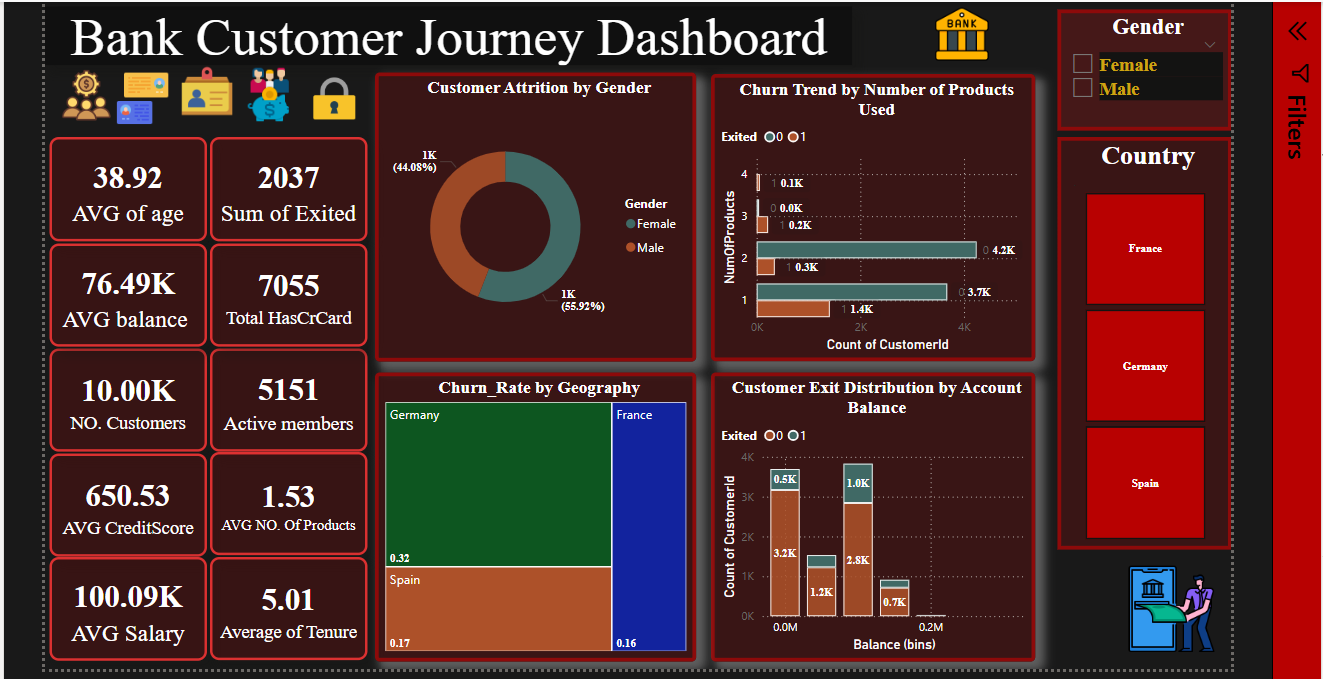

What the dashboard file says about the page in this screenshot:
{"tool":"powerbi","page":{"name":"Basic  Anyalysis","canvas":[1280,720],"ordinal":1},"visuals":[{"type":"textbox","title":"Bank Customer Journey Dashboard","box":[0,4.8,871.7,63.6],"z":0},{"type":"card","fields":{"Values":["Avg(Bank_Churn_Modelling.Age)"]},"box":[4.8,146,170.2,112.9],"z":1000},{"type":"card","fields":{"Values":["CountNonNull(Bank_Churn_Modelling.CustomerId)"]},"box":[4.8,374,170.2,111.3],"z":2000},{"type":"card","fields":{"Values":["Avg(Bank_Churn_Modelling.CreditScore)"]},"box":[5,486.7,170.2,111.3],"z":3000},{"type":"card","fields":{"Values":["Avg(Bank_Churn_Modelling.EstimatedSalary)"]},"box":[4.8,599.7,170,112],"z":4000},{"type":"card","fields":{"Values":["Avg(Bank_Churn_Modelling.Balance)"]},"box":[4.8,261,170.2,111.3],"z":5000},{"type":"card","fields":{"Values":["Sum(Bank_Churn_Modelling.Exited)"]},"box":[178.1,146,170.2,112.9],"z":6000},{"type":"card","fields":{"Values":["Sum(Bank_Churn_Modelling.IsActiveMember)"]},"box":[178.1,374,170.2,111.3],"z":7000},{"type":"card","fields":{"Values":["Avg(Bank_Churn_Modelling.NumOfProducts)"]},"box":[178,486,170.2,111.3],"z":8000},{"type":"card","fields":{"Values":["Avg(Bank_Churn_Modelling.Tenure)"]},"box":[178.1,599.7,170.2,111.3],"z":9000},{"type":"card","fields":{"Values":["Sum(Bank_Churn_Modelling.HasCrCard)"]},"box":[178,261,170.2,111.3],"z":10000},{"type":"slicer","title":"Gender","fields":{"Values":["Bank_Churn_Modelling.Gender"]},"box":[1092.7,8,187.7,130.4],"z":11000},{"type":"slicer","title":"Country ","fields":{"Values":["Bank_Churn_Modelling.Geography"]},"box":[1092.7,146.3,187.7,445.4],"z":12000},{"type":"donutChart","title":"Customer Attrition by Gender","fields":{"Category":["Bank_Churn_Modelling.Gender"],"Y":["Sum(Bank_Churn_Modelling.Exited)"]},"box":[356.3,76.3,346.8,311.8],"z":13000},{"type":"clusteredBarChart","title":"Churn Trend by Number of Products Used","fields":{"Category":["Bank_Churn_Modelling.NumOfProducts"],"Y":["CountNonNull(Bank_Churn_Modelling.CustomerId)"],"Series":["Bank_Churn_Modelling.Exited"]},"box":[719,77.9,349.9,310.2],"z":14000},{"type":"columnChart","title":"Customer Exit Distribution by Account Balance","fields":{"Category":["Bank_Churn_Modelling.Balance (bins)"],"Y":["CountNonNull(Bank_Churn_Modelling.CustomerId)"],"Series":["Bank_Churn_Modelling.Exited"]},"box":[719,399.2,349.9,311.8],"z":15000},{"type":"image","box":[0,68.4,89.1,65.2],"z":16000},{"type":"image","box":[57.3,68.4,97,71.6],"z":17000},{"type":"image","box":[127.2,62,93.8,70],"z":18000},{"type":"image","box":[175,62,135.2,76.3],"z":19000},{"type":"image","box":[262.5,76.3,100.2,55.7],"z":20000},{"type":"image","box":[952.8,0,74.8,68.4],"z":21000},{"type":"image","box":[1153.2,599.7,127.2,111.3],"z":22000},{"type":"treemap","fields":{"Group":["Bank_Churn_Modelling.Geography"],"Values":["Bank_Churn_Modelling.Churn_Rate"]},"box":[356.3,399.2,346.8,311.8],"z":23000}]}

Visuals, with their boxes on the page's 1280x720 design canvas (x1, y1, x2, y2). These are canvas units, not pixel positions in the 1323x679 screenshot, which may show the page scaled, cropped or inside an application window:
"Bank Customer Journey Dashboard" textbox: <region>0, 5, 872, 68</region>
card - Avg(Bank_Churn_Modelling.Age): <region>5, 146, 175, 259</region>
card - CountNonNull(Bank_Churn_Modelling.CustomerId): <region>5, 374, 175, 485</region>
card - Avg(Bank_Churn_Modelling.CreditScore): <region>5, 487, 175, 598</region>
card - Avg(Bank_Churn_Modelling.EstimatedSalary): <region>5, 600, 175, 712</region>
card - Avg(Bank_Churn_Modelling.Balance): <region>5, 261, 175, 372</region>
card - Sum(Bank_Churn_Modelling.Exited): <region>178, 146, 348, 259</region>
card - Sum(Bank_Churn_Modelling.IsActiveMember): <region>178, 374, 348, 485</region>
card - Avg(Bank_Churn_Modelling.NumOfProducts): <region>178, 486, 348, 597</region>
card - Avg(Bank_Churn_Modelling.Tenure): <region>178, 600, 348, 711</region>
card - Sum(Bank_Churn_Modelling.HasCrCard): <region>178, 261, 348, 372</region>
"Gender" slicer: <region>1093, 8, 1280, 138</region>
"Country " slicer: <region>1093, 146, 1280, 592</region>
"Customer Attrition by Gender" donutChart: <region>356, 76, 703, 388</region>
"Churn Trend by Number of Products Used" clusteredBarChart: <region>719, 78, 1069, 388</region>
"Customer Exit Distribution by Account Balance" columnChart: <region>719, 399, 1069, 711</region>
image: <region>0, 68, 89, 134</region>
image: <region>57, 68, 154, 140</region>
image: <region>127, 62, 221, 132</region>
image: <region>175, 62, 310, 138</region>
image: <region>262, 76, 363, 132</region>
image: <region>953, 0, 1028, 68</region>
image: <region>1153, 600, 1280, 711</region>
treemap - Bank_Churn_Modelling.Geography x Bank_Churn_Modelling.Churn_Rate: <region>356, 399, 703, 711</region>
